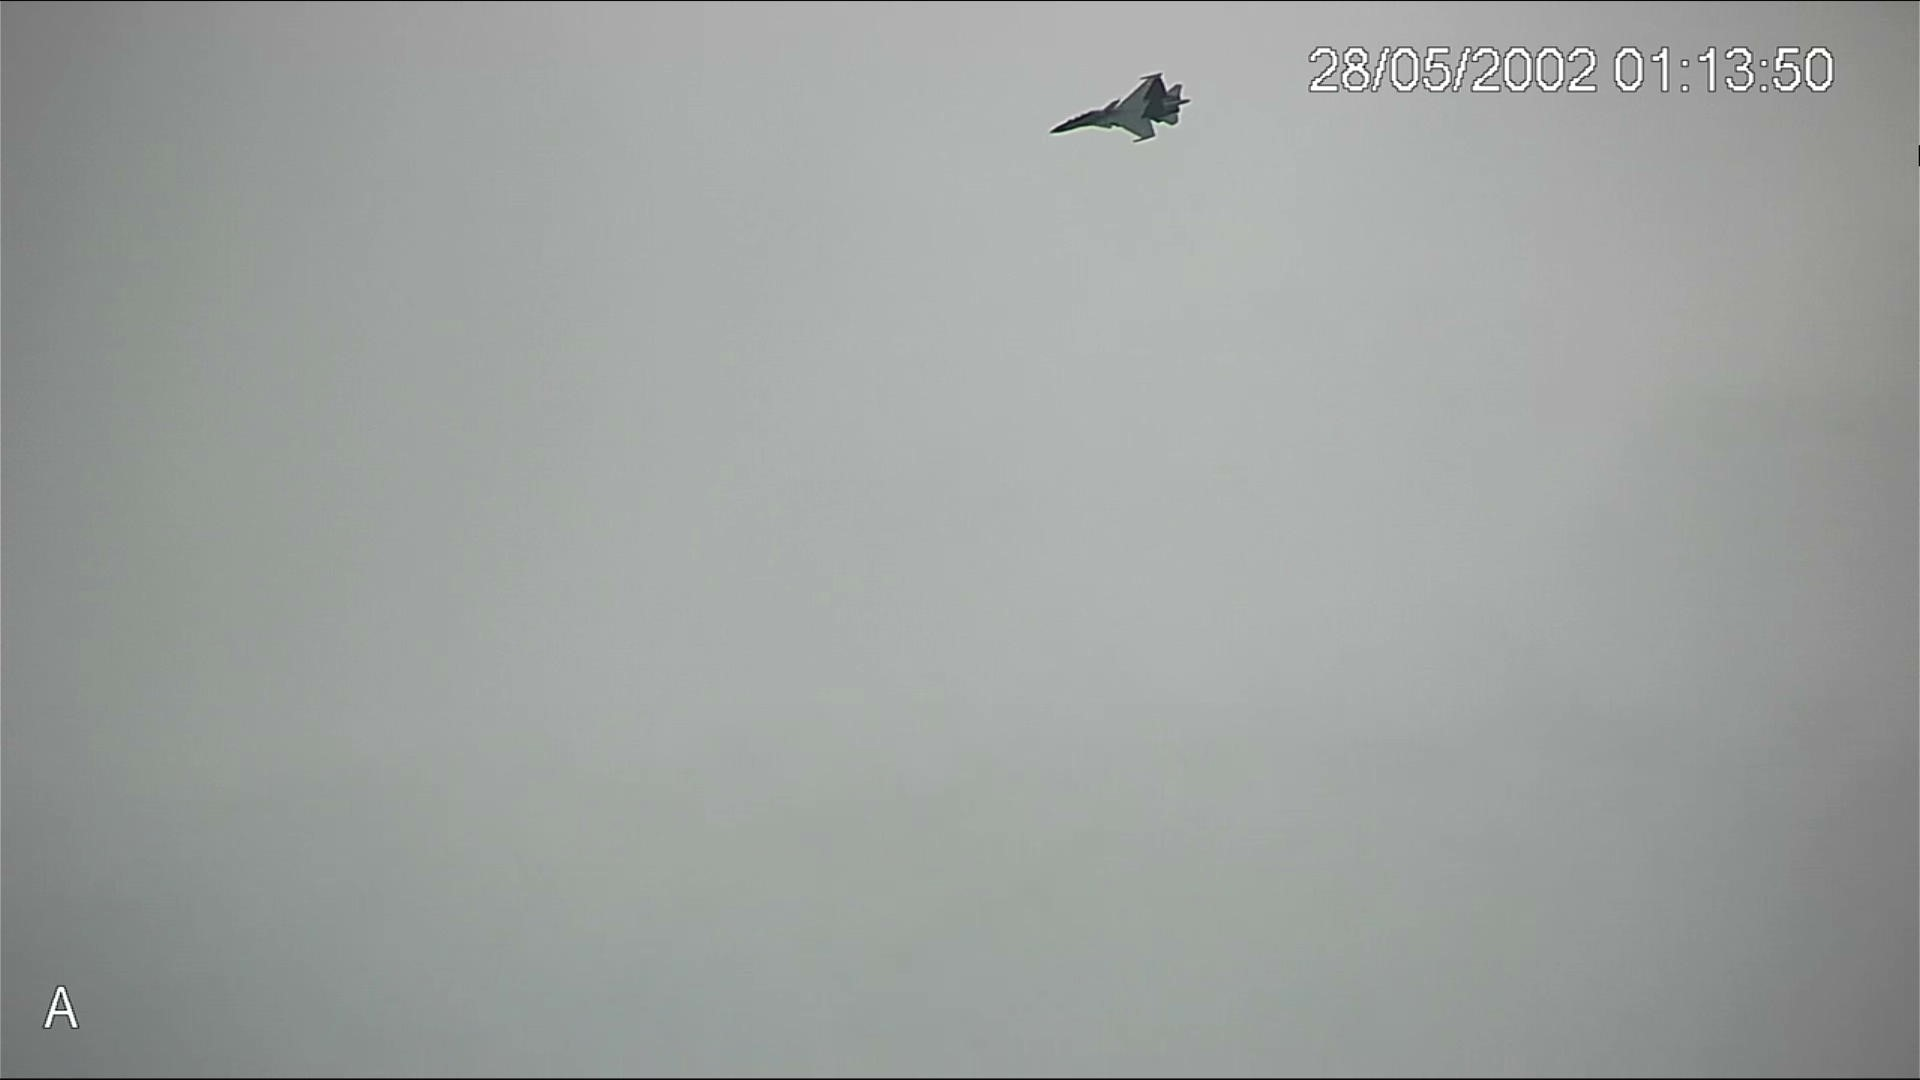SU_30: (1039, 70, 1193, 142)
